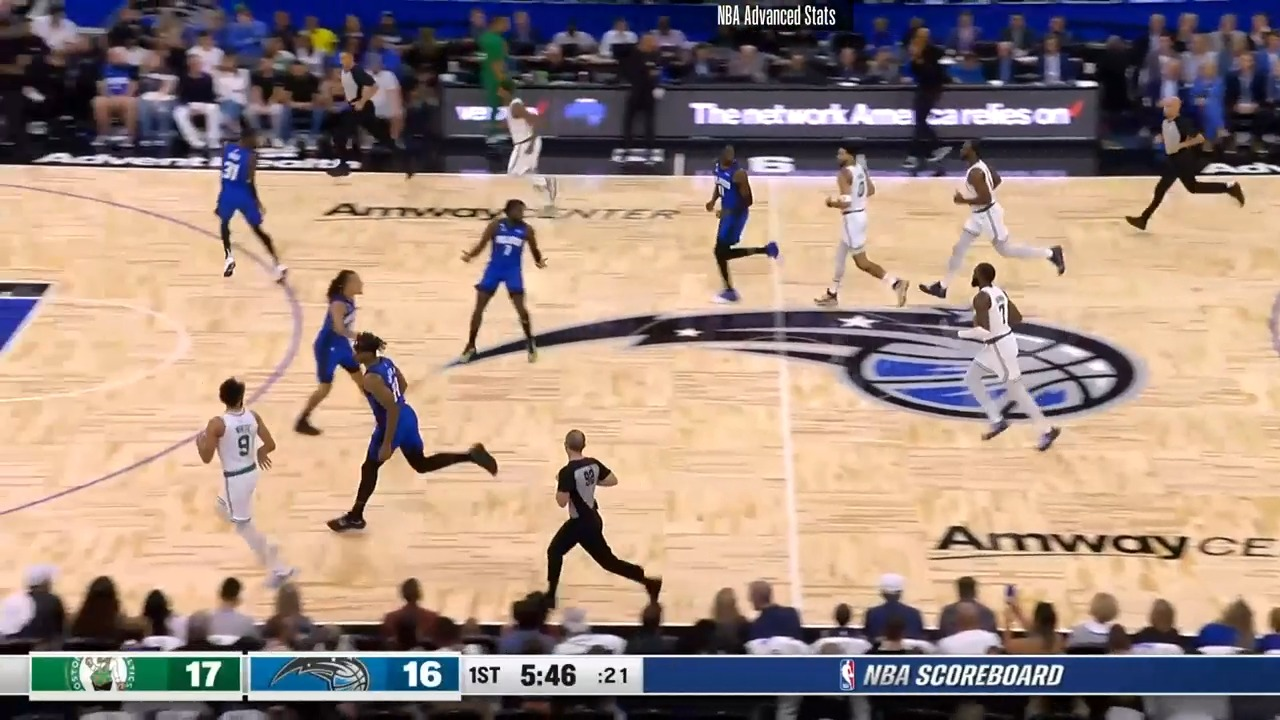player: (332, 331, 503, 541), (184, 375, 291, 594), (931, 138, 1071, 301), (960, 260, 1060, 452), (282, 268, 380, 441), (450, 200, 546, 372), (813, 142, 906, 309), (692, 140, 782, 310), (213, 125, 291, 289), (493, 83, 564, 211)
referee: (538, 430, 662, 621), (1123, 67, 1248, 236), (330, 44, 424, 180)
